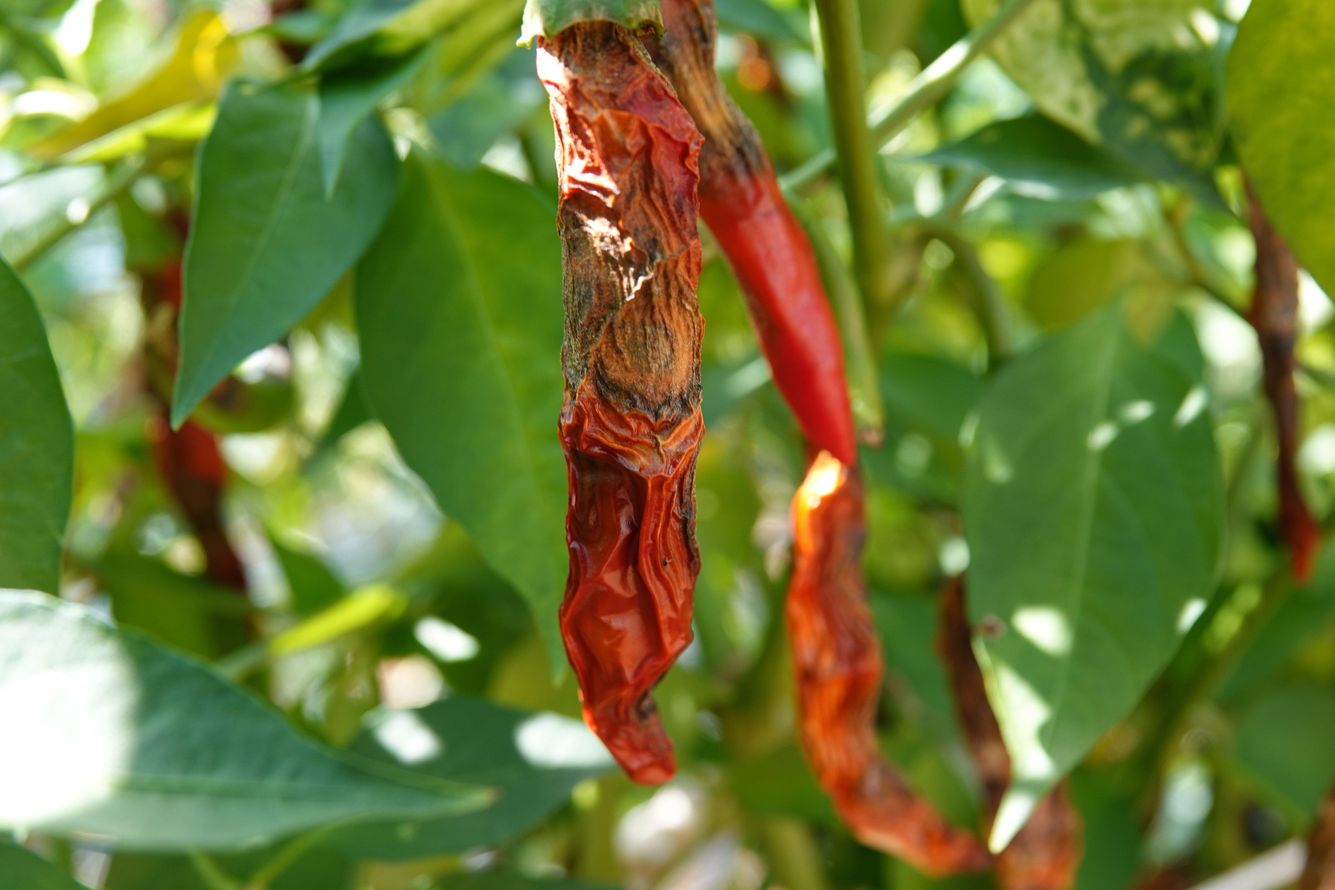Busuk Buah Antraknosa: (649, 2, 993, 880), (523, 11, 710, 788)
